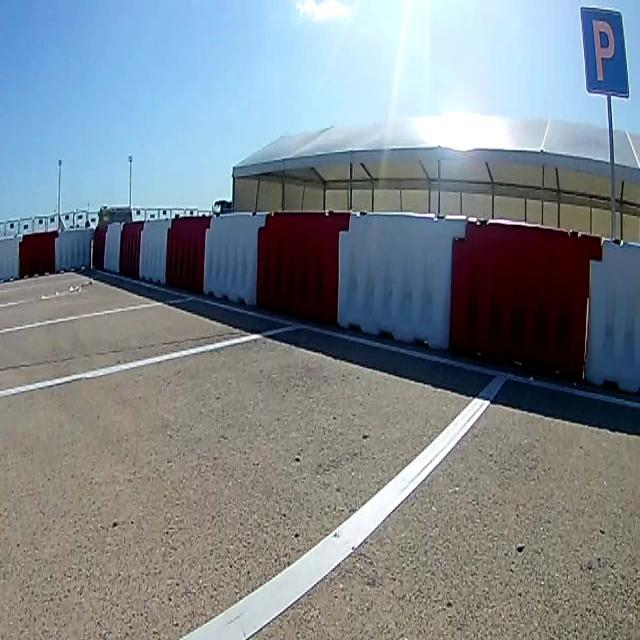park: (580, 5, 630, 97)
